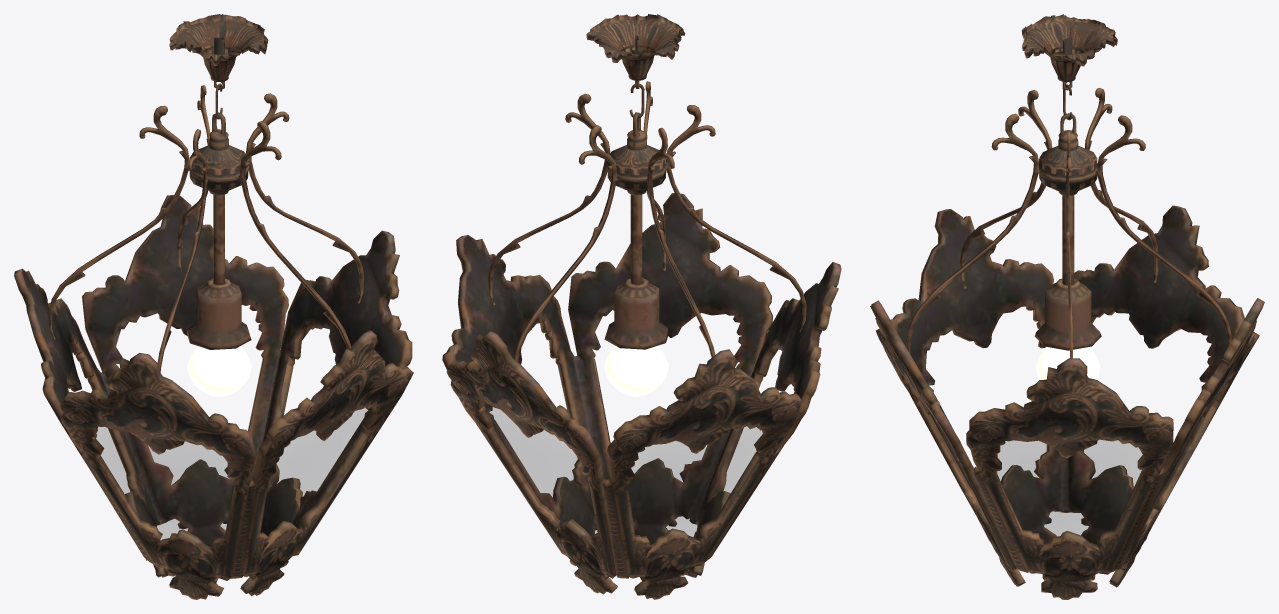
File: lantern-chandelier-01.glb
3 views of the same model, side by side, from view 1: azimuth 30°, elevation 25°; view 2: azimuth 150°, elevation 25°; view 3: azimuth 270°, elevation 25° (orthographic).
Visible parts, largest first — view 1: lantern_chandelier_01; view 2: lantern_chandelier_01; view 3: lantern_chandelier_01.
Part boxes in pixels (x1,y1,x2,y2): lantern_chandelier_01: (14,14,413,599); lantern_chandelier_01: (442,14,841,599); lantern_chandelier_01: (870,14,1264,599).
Size of the model in its own units: 0.5792 by 0.8776 by 0.5746.
3 materials, 2 textured.
